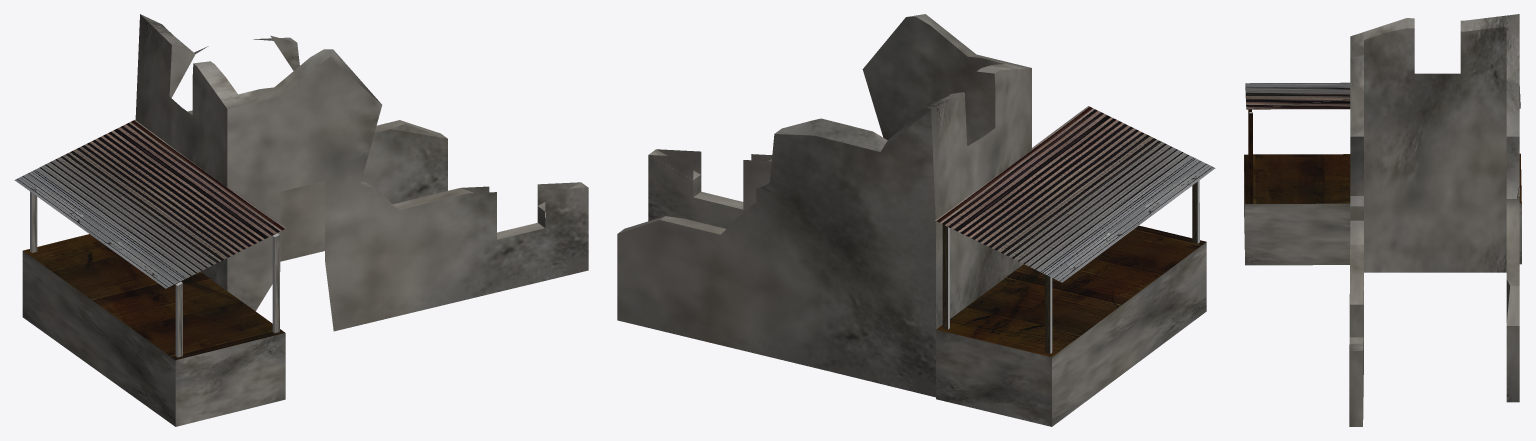
Rendered from station.gltf.
3 views of the same model, side by side, from view 1: azimuth 30°, elevation 25°; view 2: azimuth 150°, elevation 25°; view 3: azimuth 270°, elevation 25° (orthographic). The views are drawn at different scales.
Parts seen in each view (by area): view 1: station_atomic0; view 2: station_atomic0; view 3: station_atomic0.
Boxes of the visible parts, <box> form: station_atomic0: <box>14,14,588,426</box>; station_atomic0: <box>617,14,1215,426</box>; station_atomic0: <box>1244,14,1521,426</box>.
Size of the model in its own units: 91.15 by 50.27 by 49.52.
Materials: 5 (4 with a texture image).
